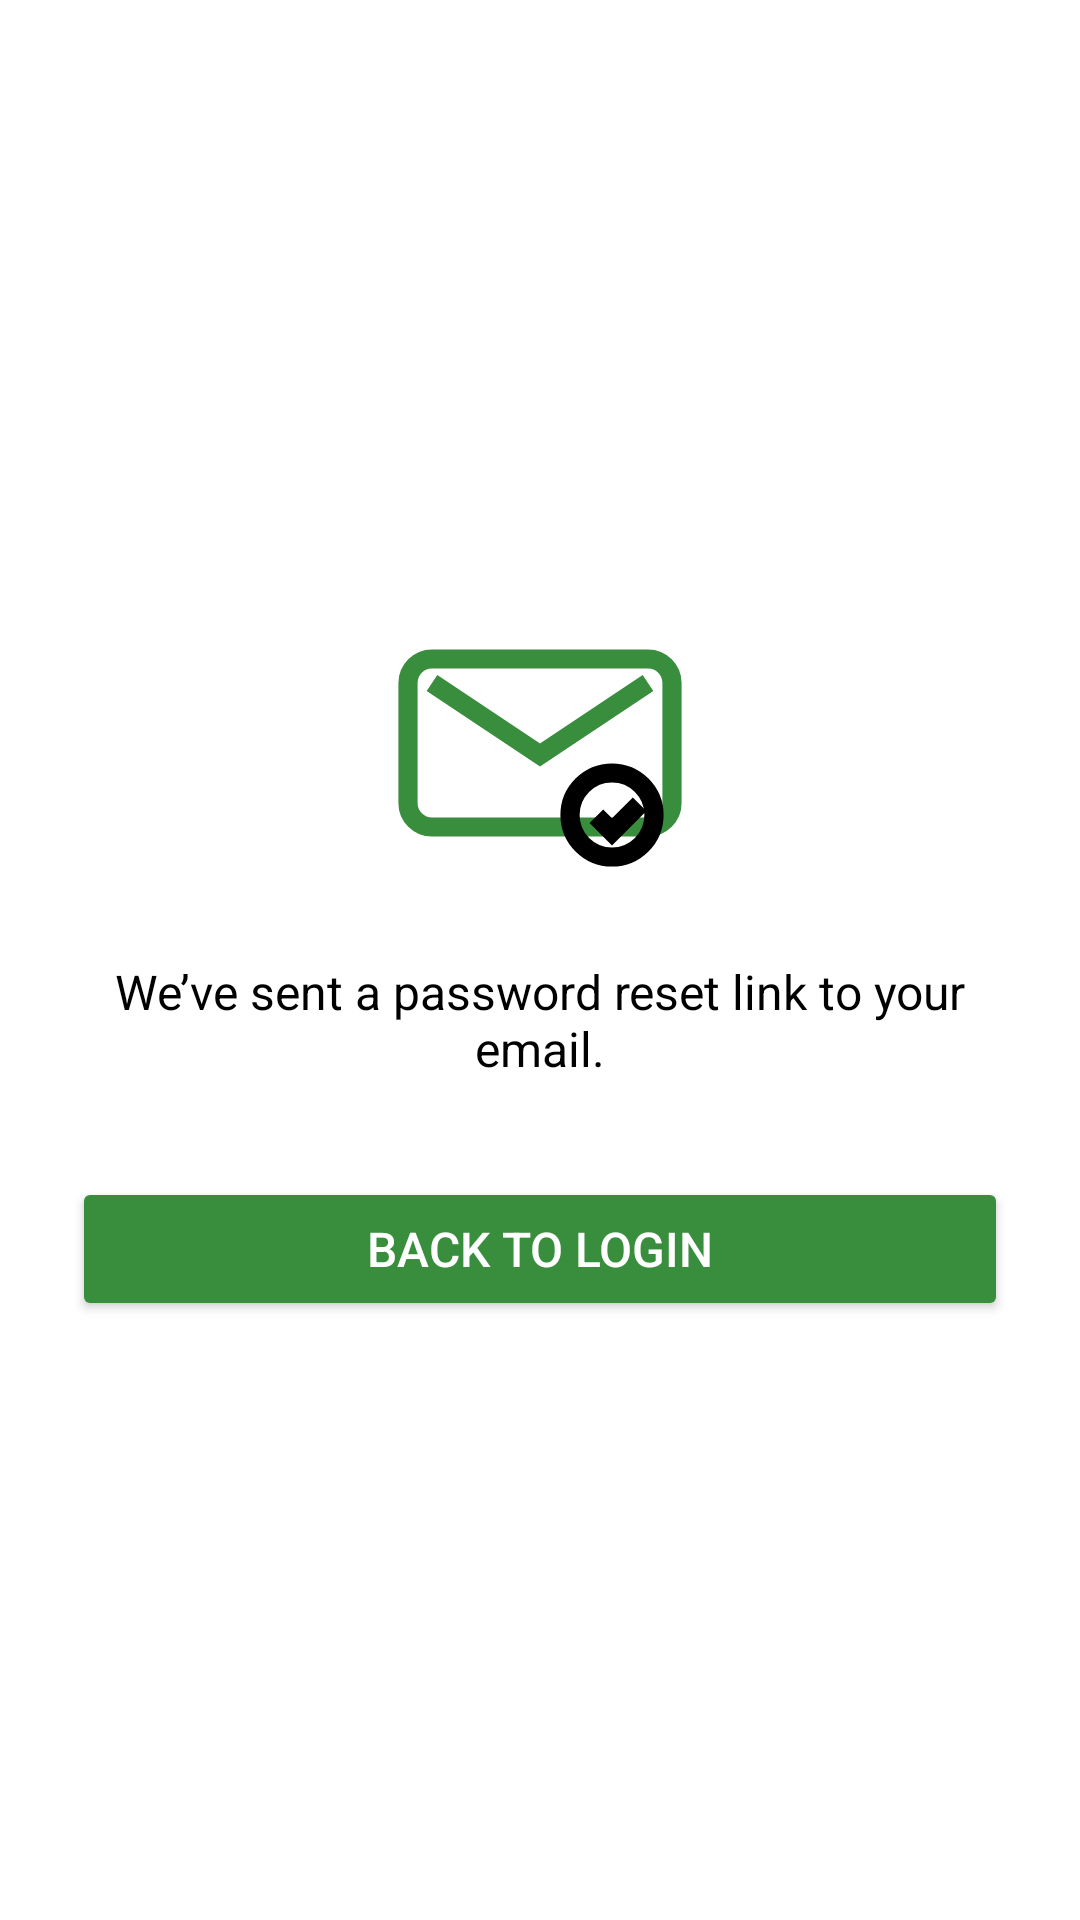

Named icons in this screenshot (1080 x 1920) and their bounding boxes, (x1, y1, x2, y2):
Success: (398, 649, 682, 867)
